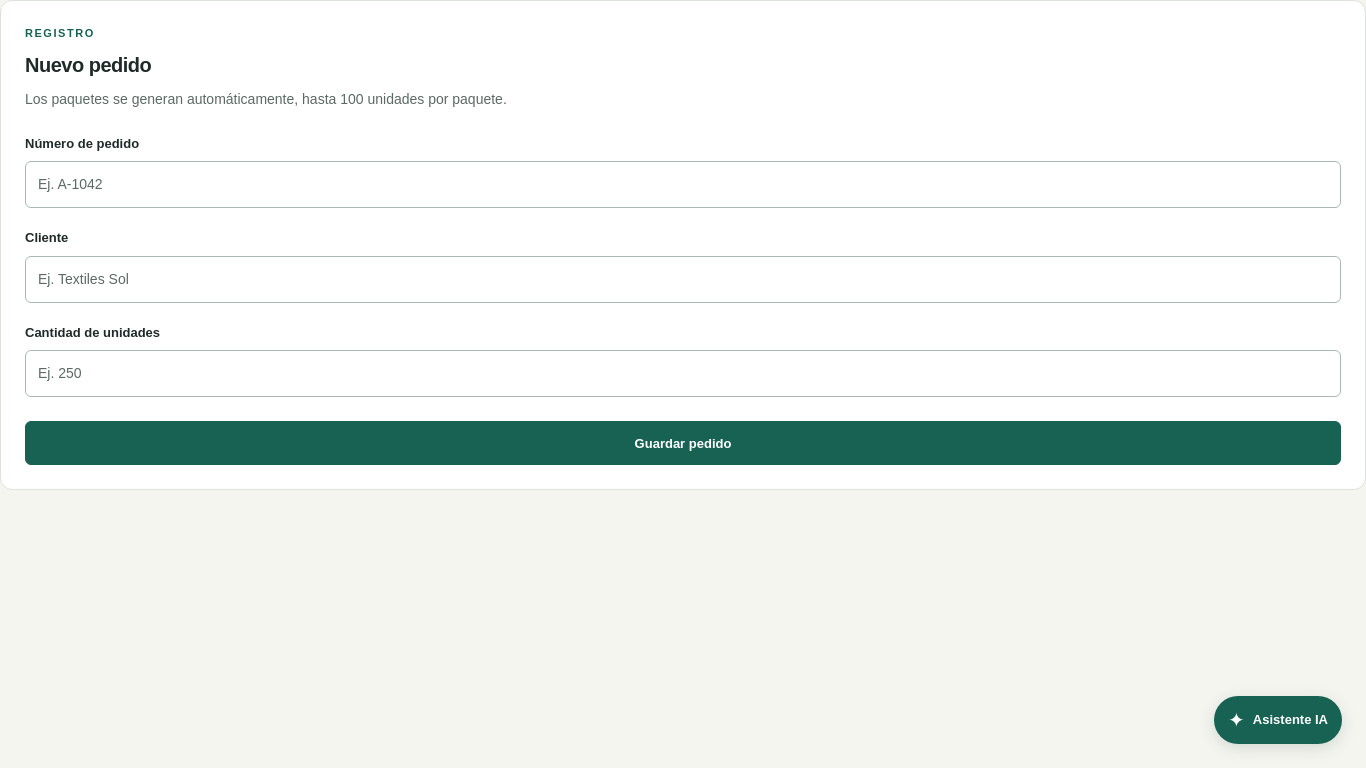
Test: OrderForm › CA-09: sitúa el duplicado bajo el número y lo limpia al editar
The width and height of the screenshot is (1366, 768).
In the field labelled "Número de pedido": point(683, 185) [25,161,1341,208], type "A-1"
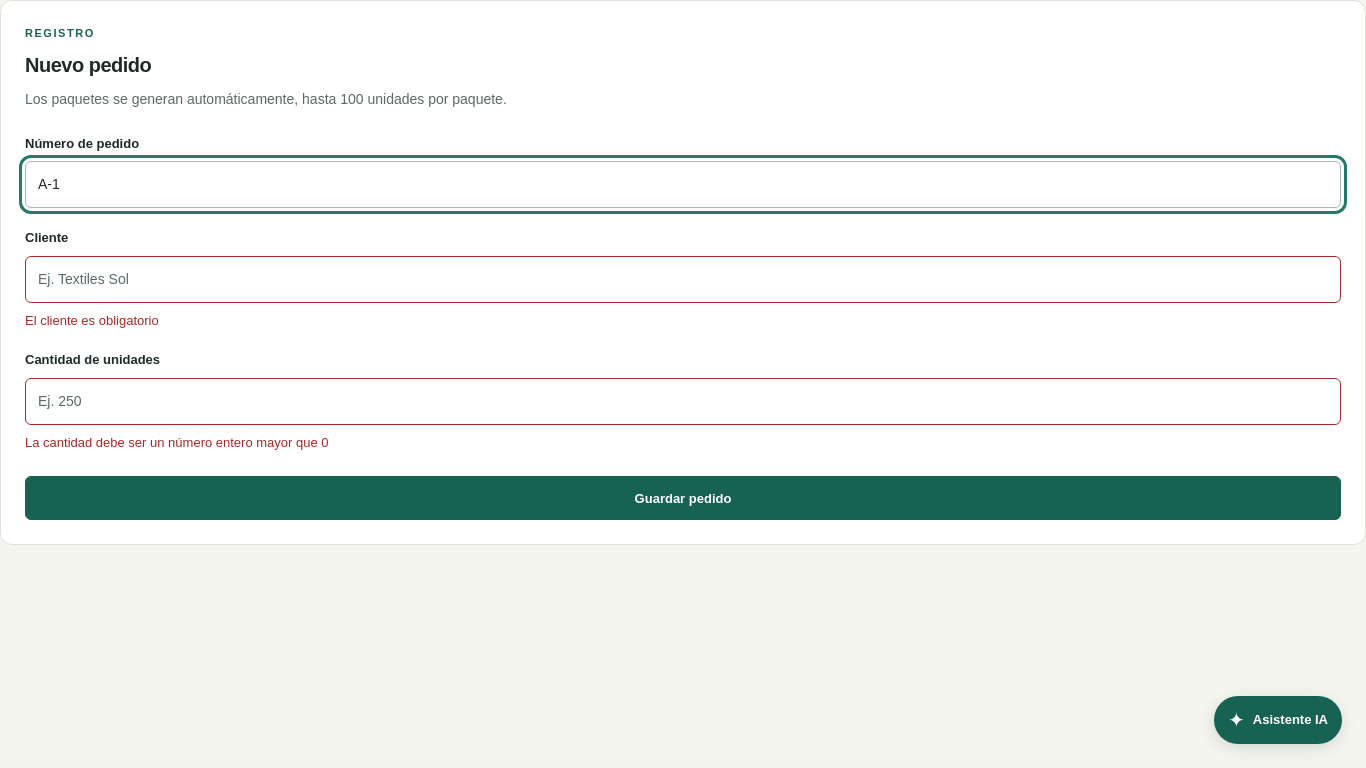
In the field labelled "Cliente": point(683, 279) [25,256,1341,303], type "Textiles Sol"
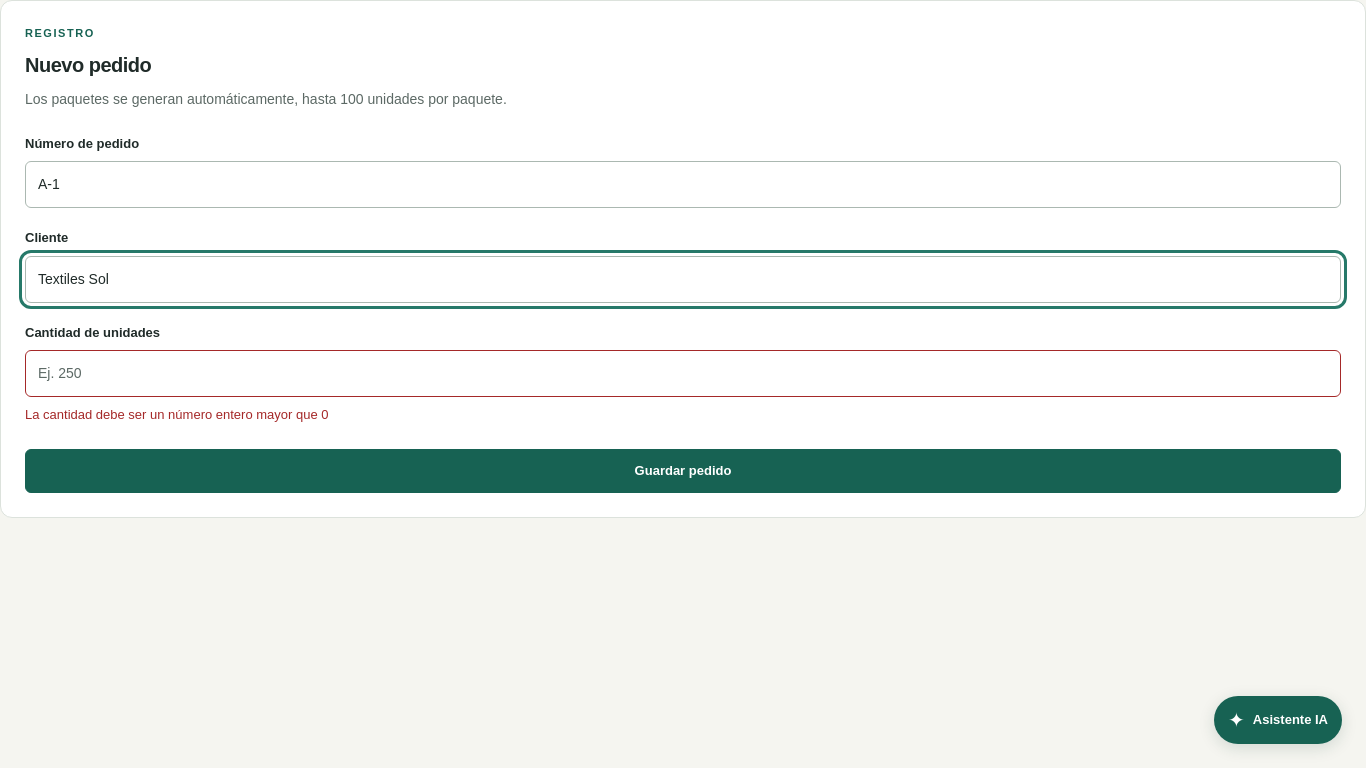
In the field labelled "Cantidad de unidades": point(683, 374) [25,350,1341,397], type "250"
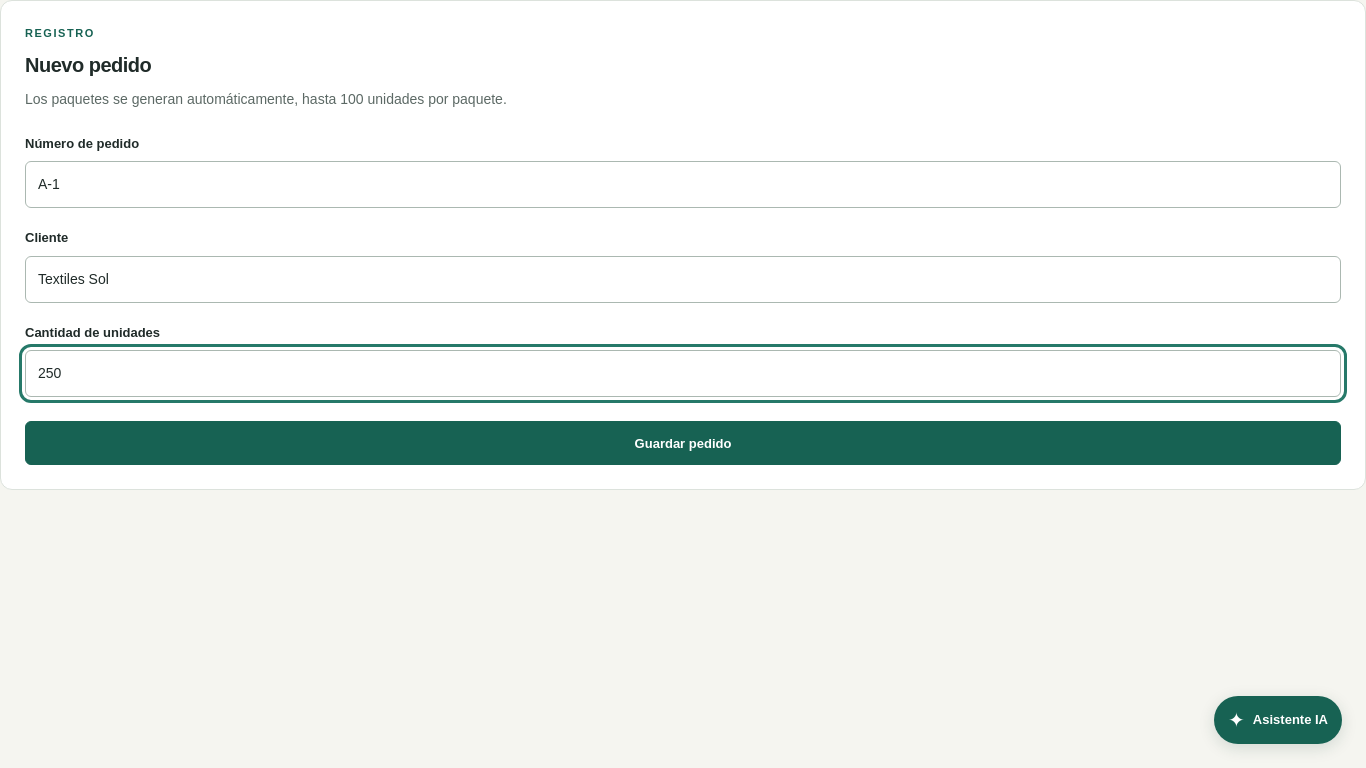
Click the button "Guardar pedido": point(683, 443) [25,421,1341,465]
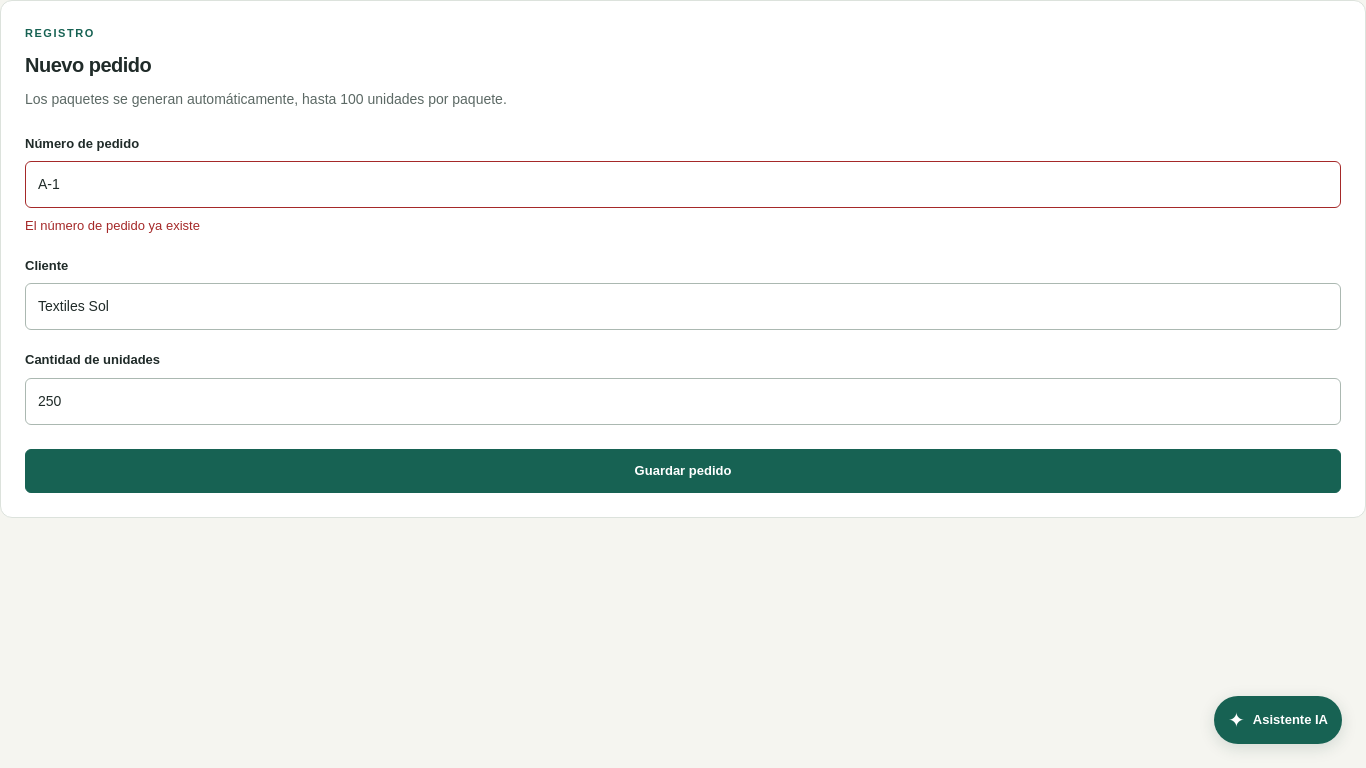
In the field labelled "Número de pedido": point(683, 185) [25,161,1341,208], type "2"
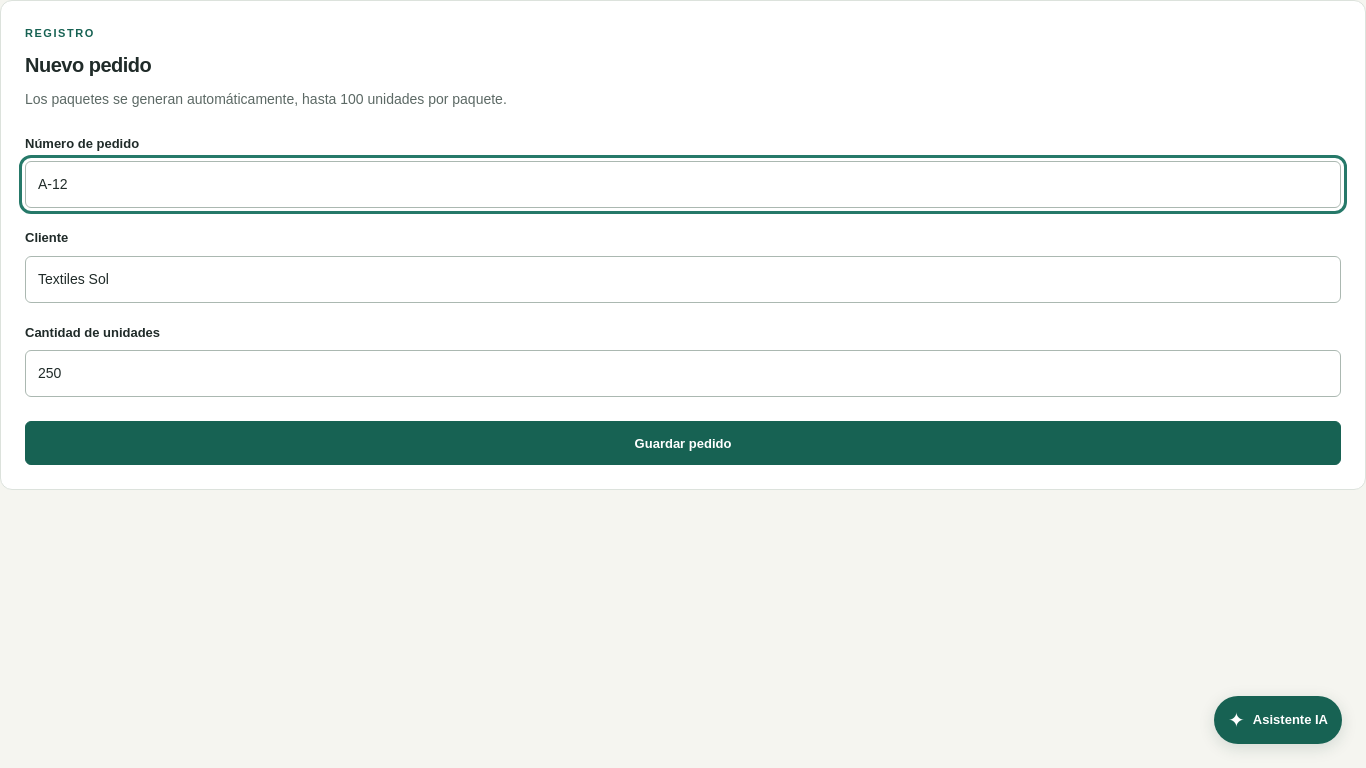
Expected: the text "El número de pedido ya existe" is gone
